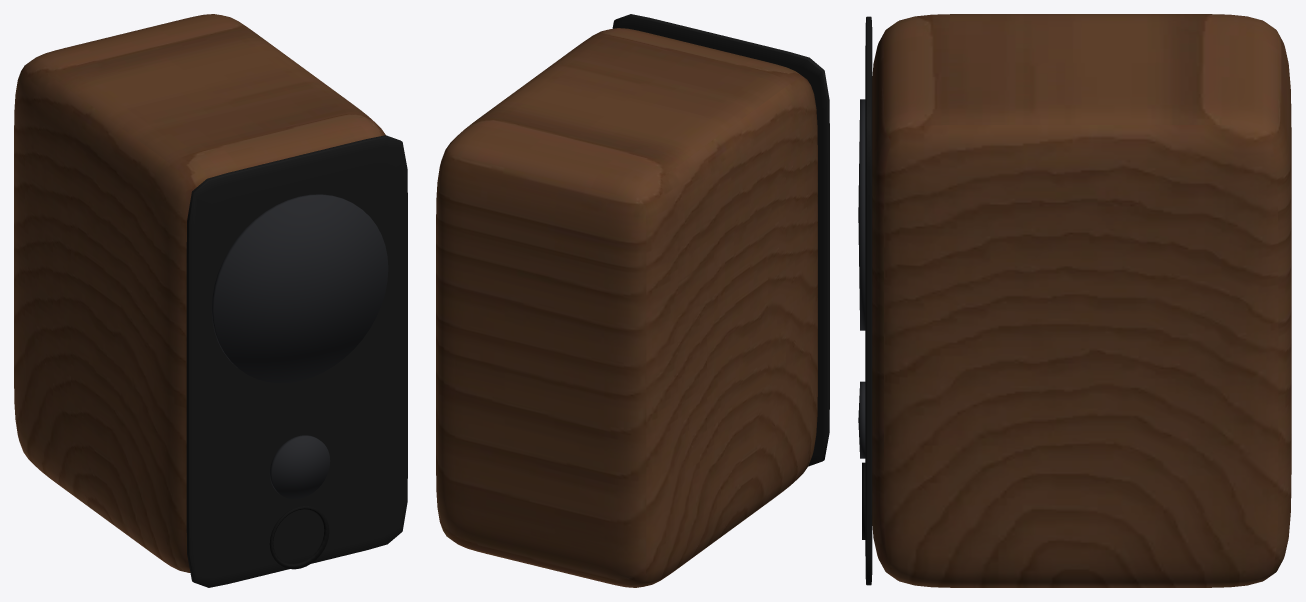
File: bookshelf-walnut.glb
The picture shows the model from 3 angles, left to right: view 1: azimuth 30°, elevation 25°; view 2: azimuth 150°, elevation 25°; view 3: azimuth 270°, elevation 25°; orthographic projection. The views are drawn at different scales.
Parts seen in each view (by area): view 1: wood_x, baffle, driver_cone, port; view 2: wood_x, baffle; view 3: wood_x, baffle, driver_cone.
Part boxes in pixels (left/top/right/bottom): wood_x: left=14, top=14, right=385, bottom=572; baffle: left=186, top=135, right=407, bottom=587; driver_cone: left=211, top=194, right=388, bottom=499; port: left=269, top=505, right=329, bottom=569; wood_x: left=436, top=28, right=817, bottom=587; baffle: left=612, top=14, right=829, bottom=466; wood_x: left=872, top=14, right=1291, bottom=587; baffle: left=865, top=16, right=872, bottom=585; driver_cone: left=858, top=99, right=865, bottom=458.
Bounding box in the file's own units: 0.17 × 0.3 × 0.247.
Materials: 4 (1 with a texture image).
